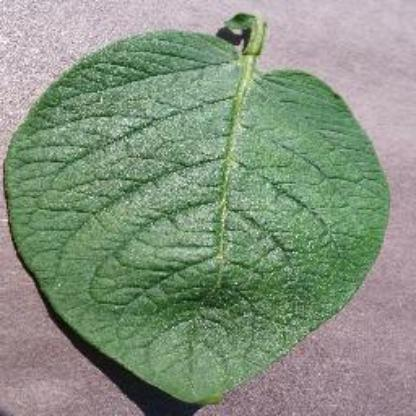Healthy-plant: (0, 16, 392, 404)
